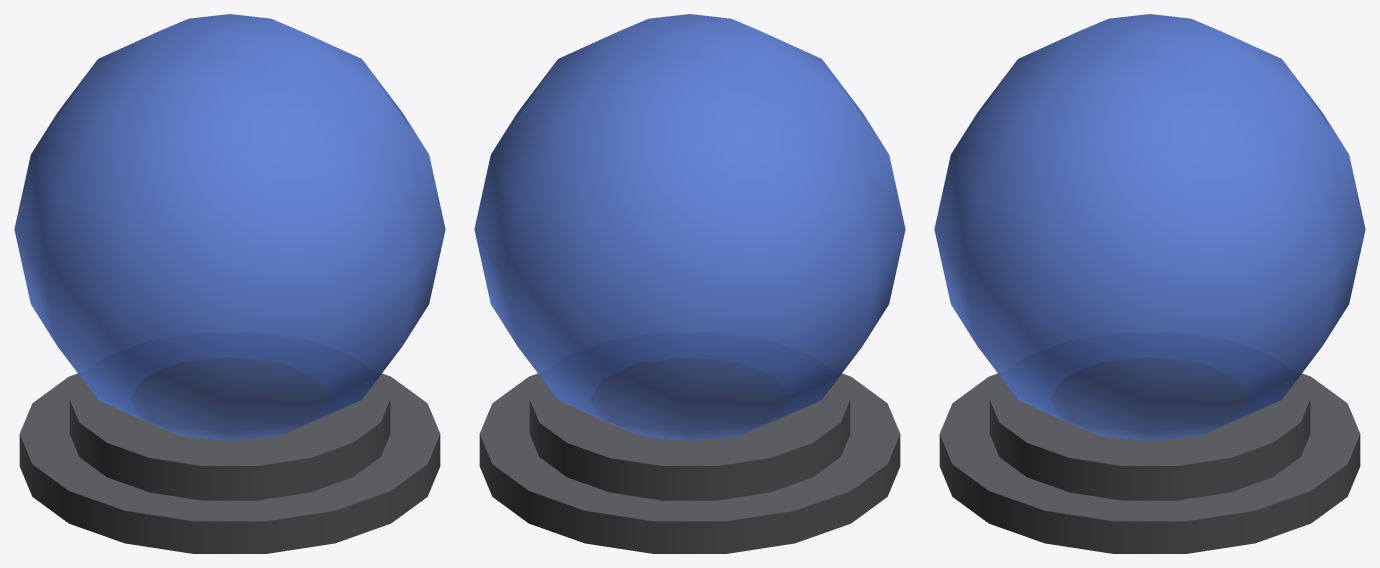
Rendered from Crystal_Ball.fbx.
The picture shows the model from 3 angles, left to right: view 1: azimuth 30°, elevation 25°; view 2: azimuth 150°, elevation 25°; view 3: azimuth 270°, elevation 25°; orthographic projection.
Parts seen in each view (by area): view 1: Crystal_Ball; view 2: Crystal_Ball; view 3: Crystal_Ball.
Boxes of the visible parts, left/top/right/bottom form: Crystal_Ball: left=14, top=14, right=445, bottom=553; Crystal_Ball: left=474, top=14, right=905, bottom=553; Crystal_Ball: left=934, top=14, right=1365, bottom=553.
Size of the model in its own units: 0.338 by 0.374 by 0.338.
